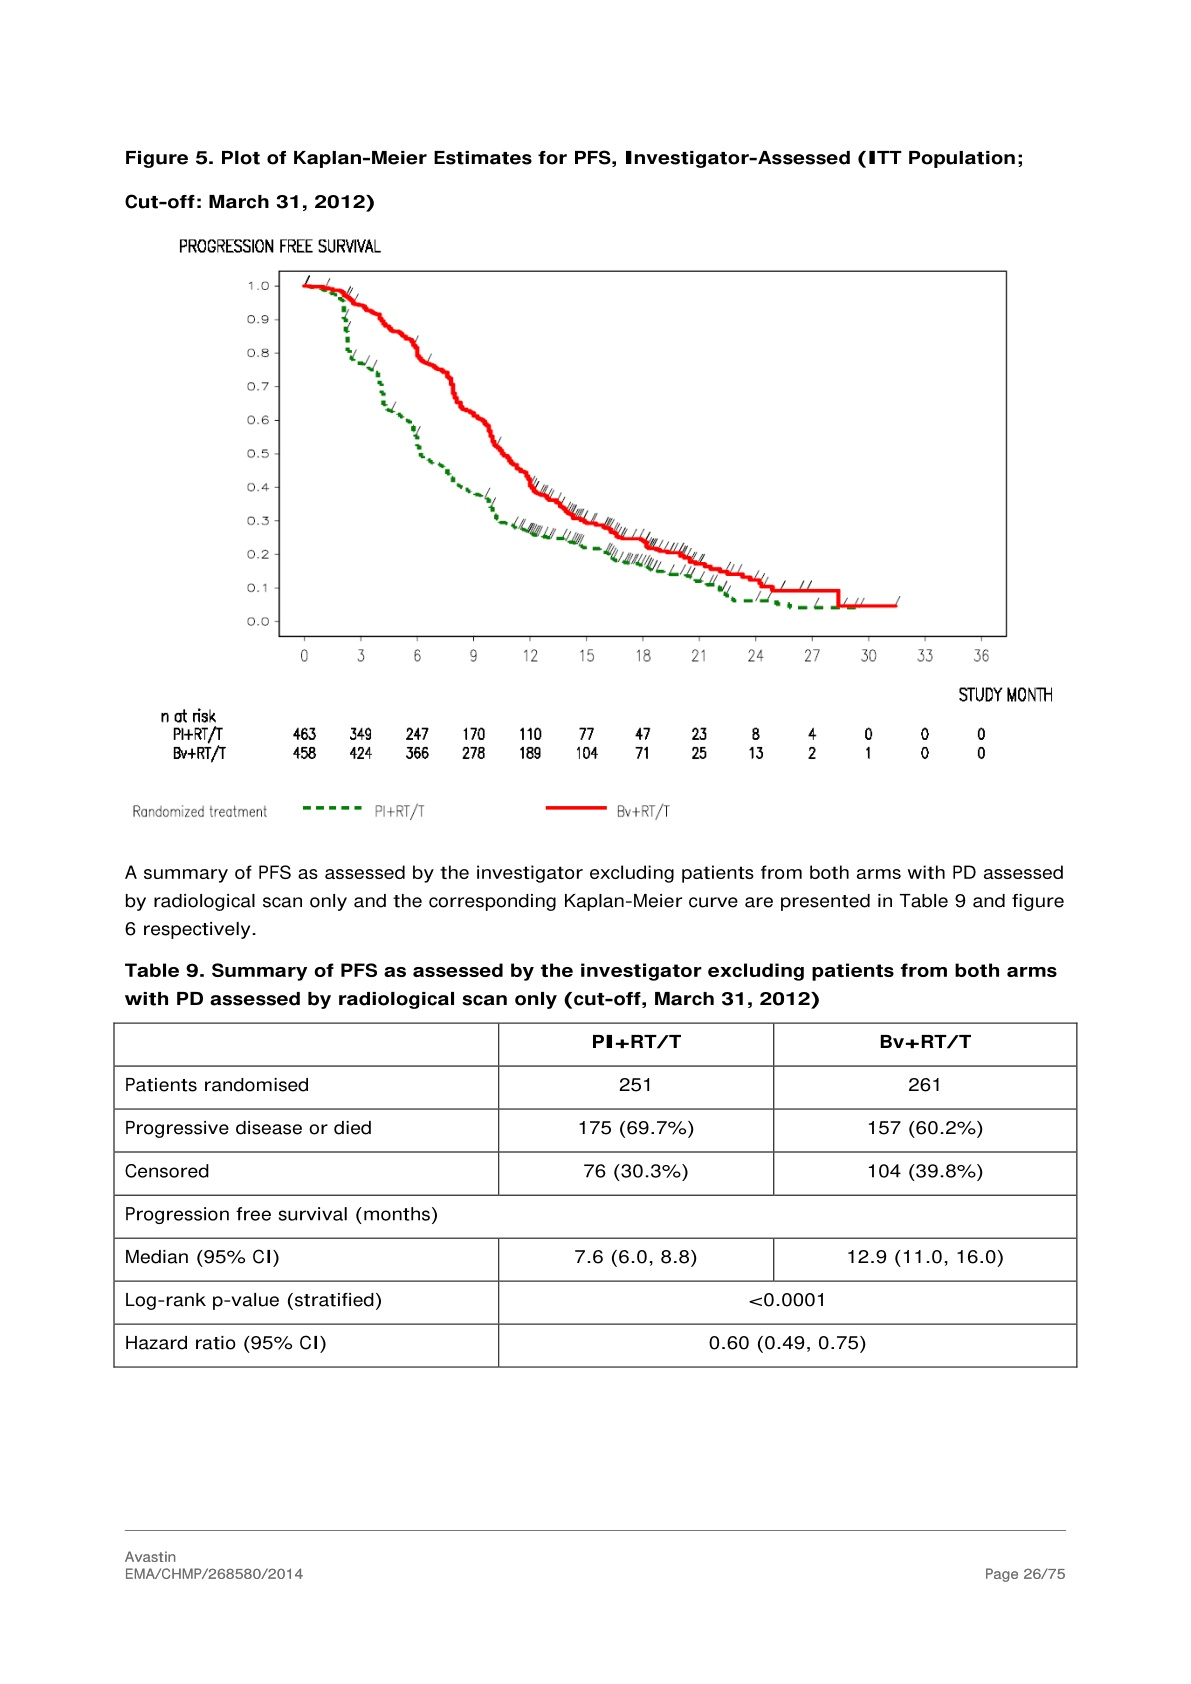merged_cells: (113, 1020, 1078, 1368)
nolines: (171, 725, 986, 760)
